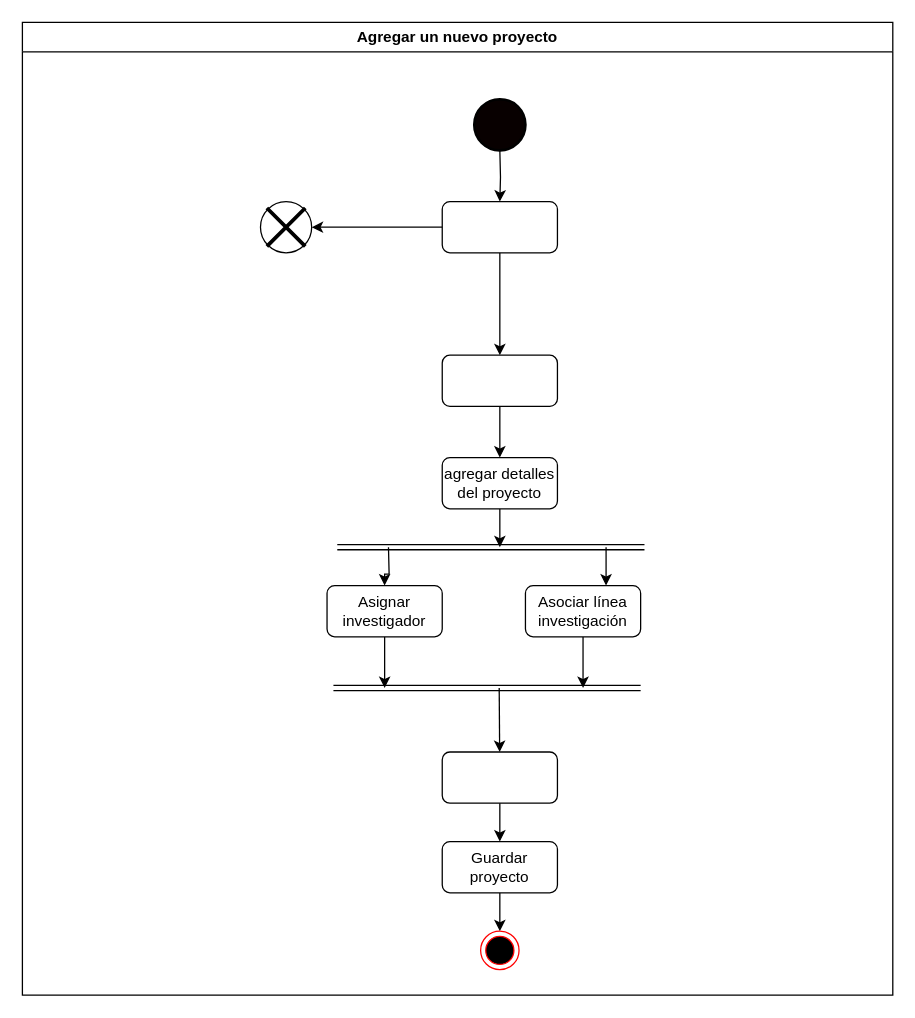
Image size: 915x1018. Some labels were removed from this diagram. The shapes that lost their labels are listed below. From the top down, each one's centre as x and y in pixels, then its label:
At pixel 499 226: "Iniciar sesion".
At pixel 499 380: "Añadir nuevo proyecto".
At pixel 499 777: "Verificar estado del proyecto".
